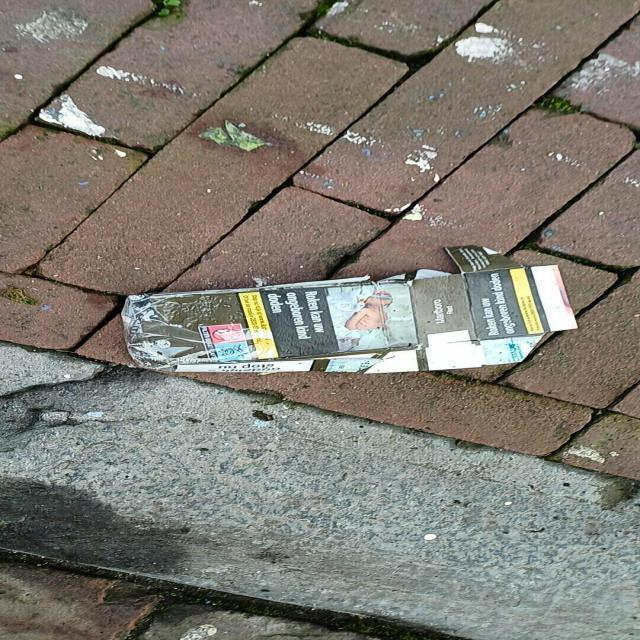Paper: (116, 243, 580, 375)
